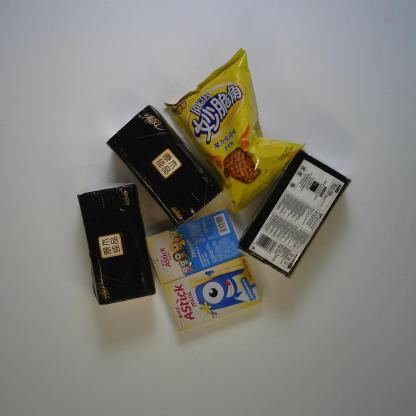Dessert: (163, 254, 263, 333), (145, 209, 244, 286)
Puffed Food: (163, 47, 307, 215)
Tissue: (236, 147, 354, 281), (103, 103, 225, 228), (75, 181, 156, 306)
